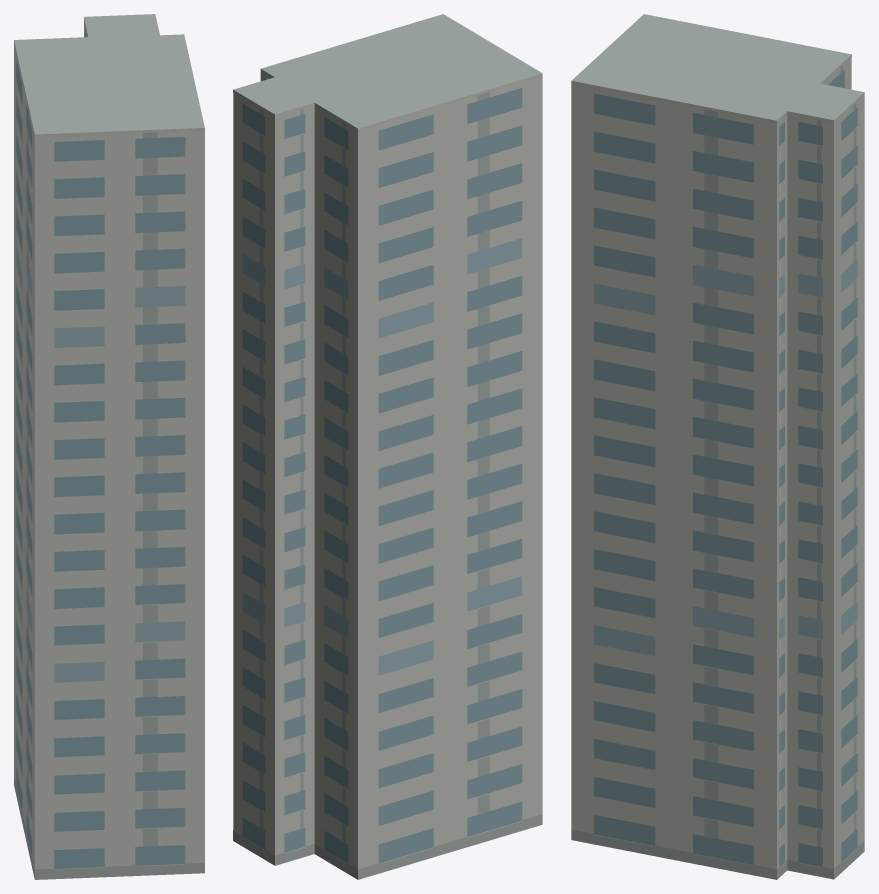
File: residential-db572db5-04d5-4694-a089-d5bb41c6b4bb.glb
The picture shows the model from 3 angles, left to right: view 1: azimuth 30°, elevation 25°; view 2: azimuth 150°, elevation 25°; view 3: azimuth 270°, elevation 25°; orthographic projection.
Visible parts, largest first — view 1: residential-db572db5-04d5-4694-a089-d5bb41c6b4bb.tmp; view 2: residential-db572db5-04d5-4694-a089-d5bb41c6b4bb.tmp; view 3: residential-db572db5-04d5-4694-a089-d5bb41c6b4bb.tmp.
Boxes of the visible parts, x1=… form: residential-db572db5-04d5-4694-a089-d5bb41c6b4bb.tmp: x1=14, y1=14, x2=204, y2=879; residential-db572db5-04d5-4694-a089-d5bb41c6b4bb.tmp: x1=233, y1=14, x2=542, y2=879; residential-db572db5-04d5-4694-a089-d5bb41c6b4bb.tmp: x1=571, y1=14, x2=864, y2=879.
Size of the model in its own units: 20.2 by 67 by 23.47.
